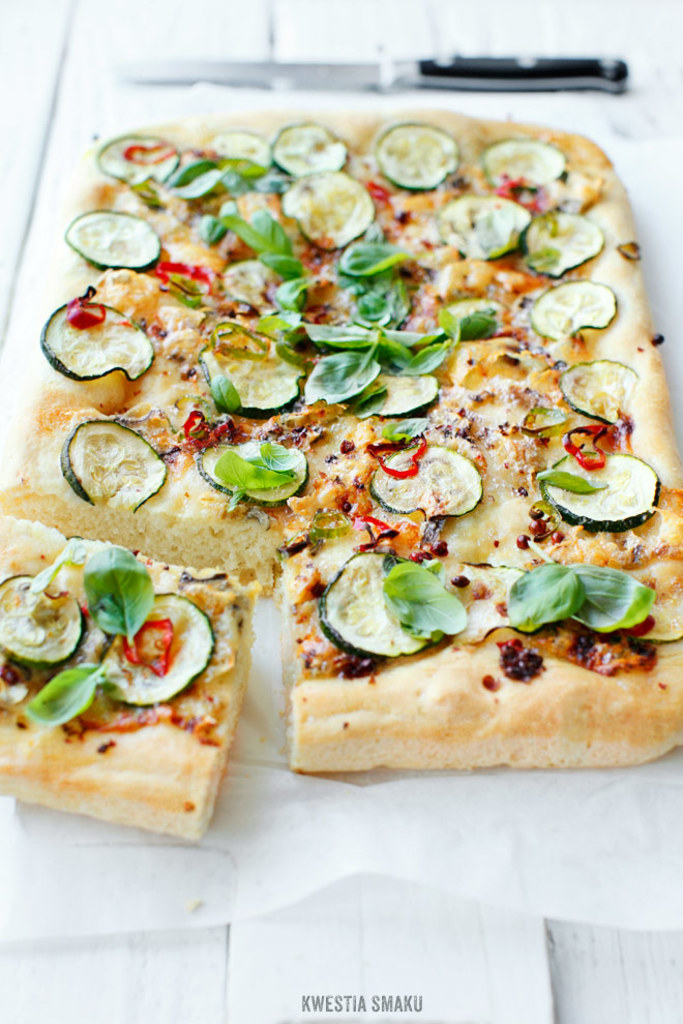Pizza: (0, 101, 681, 836)
